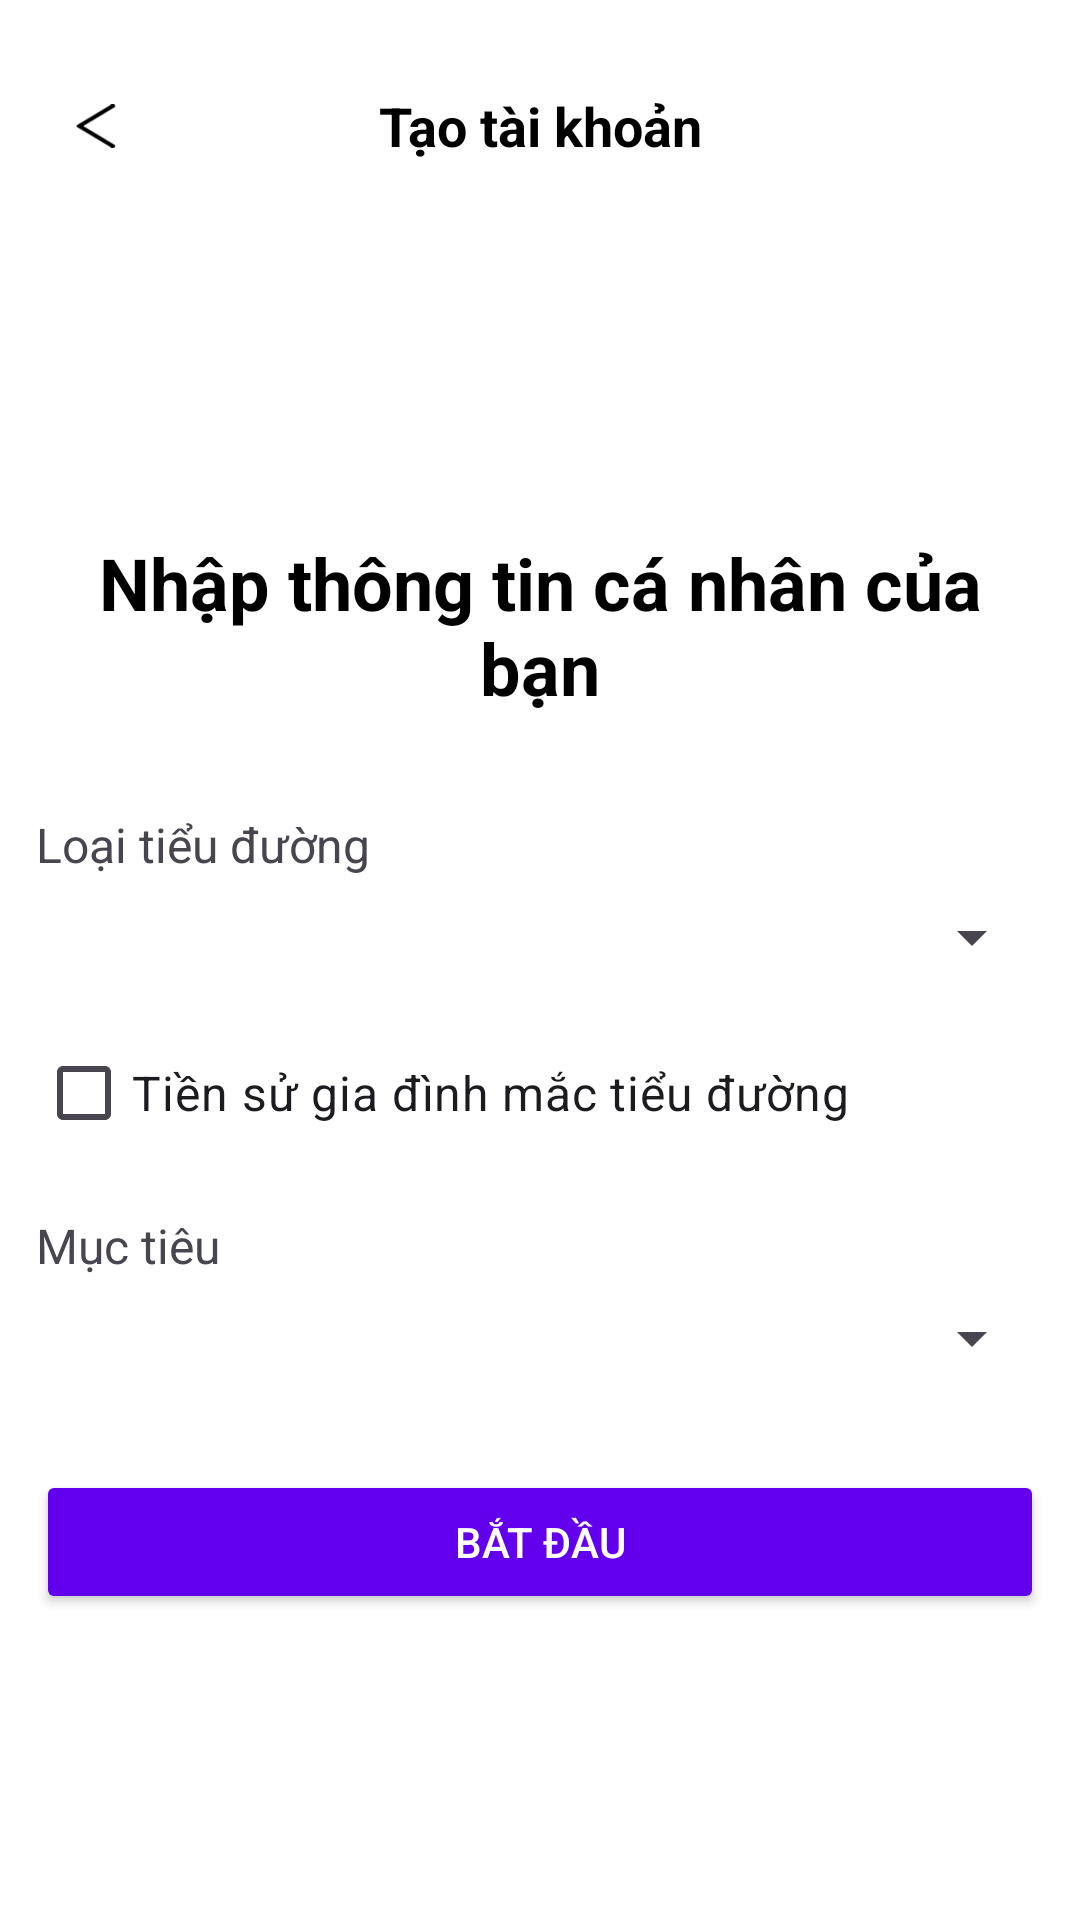

Icons on this 1080×1920 Android screen, each with the point to tap as (x=x, y=y):
Quay lại: (x=96, y=126)
